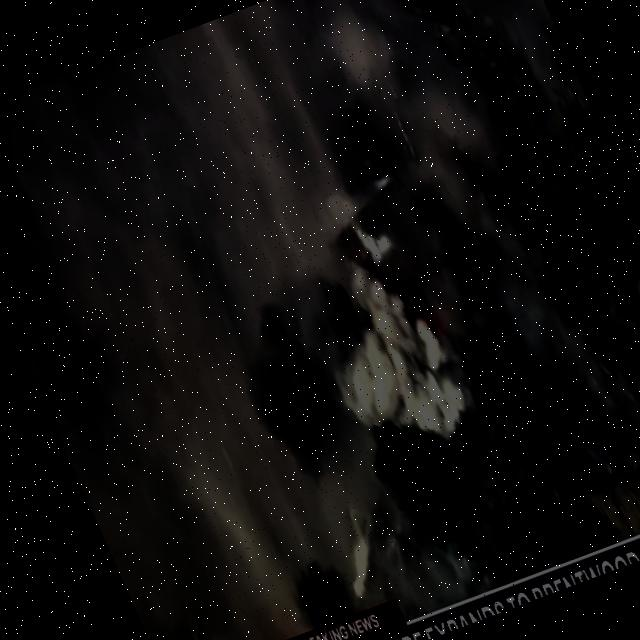Smoke: (288, 0, 635, 463), (227, 180, 486, 487)
